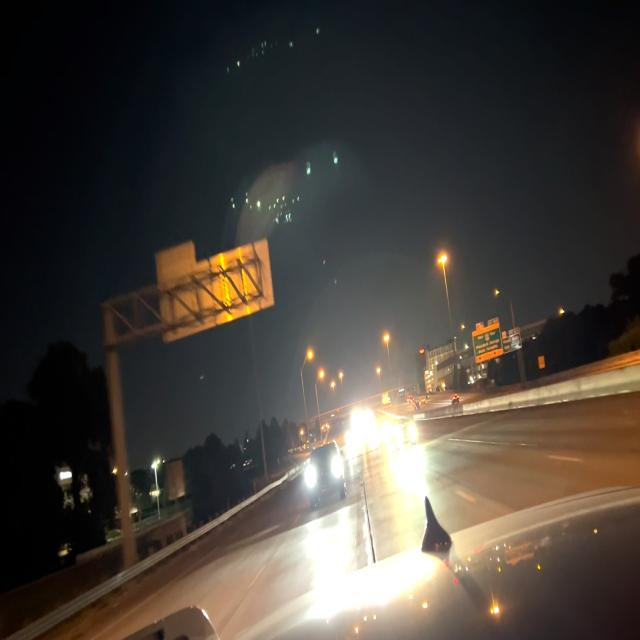back-of-sign: (152, 235, 274, 337)
